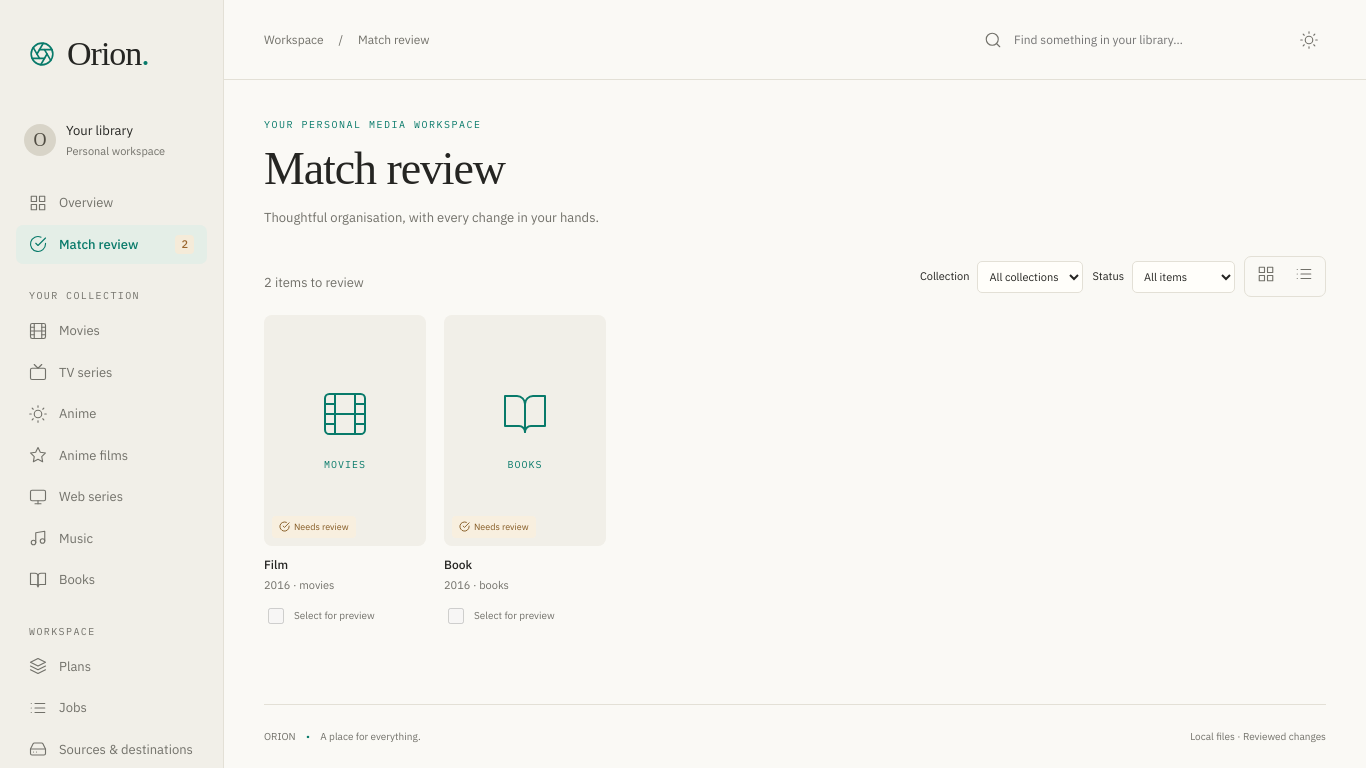
Scenario: review filters by collection without dropping other categories from its counts
Expected: the button "movies Needs review Film 2016 · movies" is shown, [264,315,426,593]
Select "Books" in the dropdown named "Filter collection" at (1030, 277), box [977,261,1083,293]
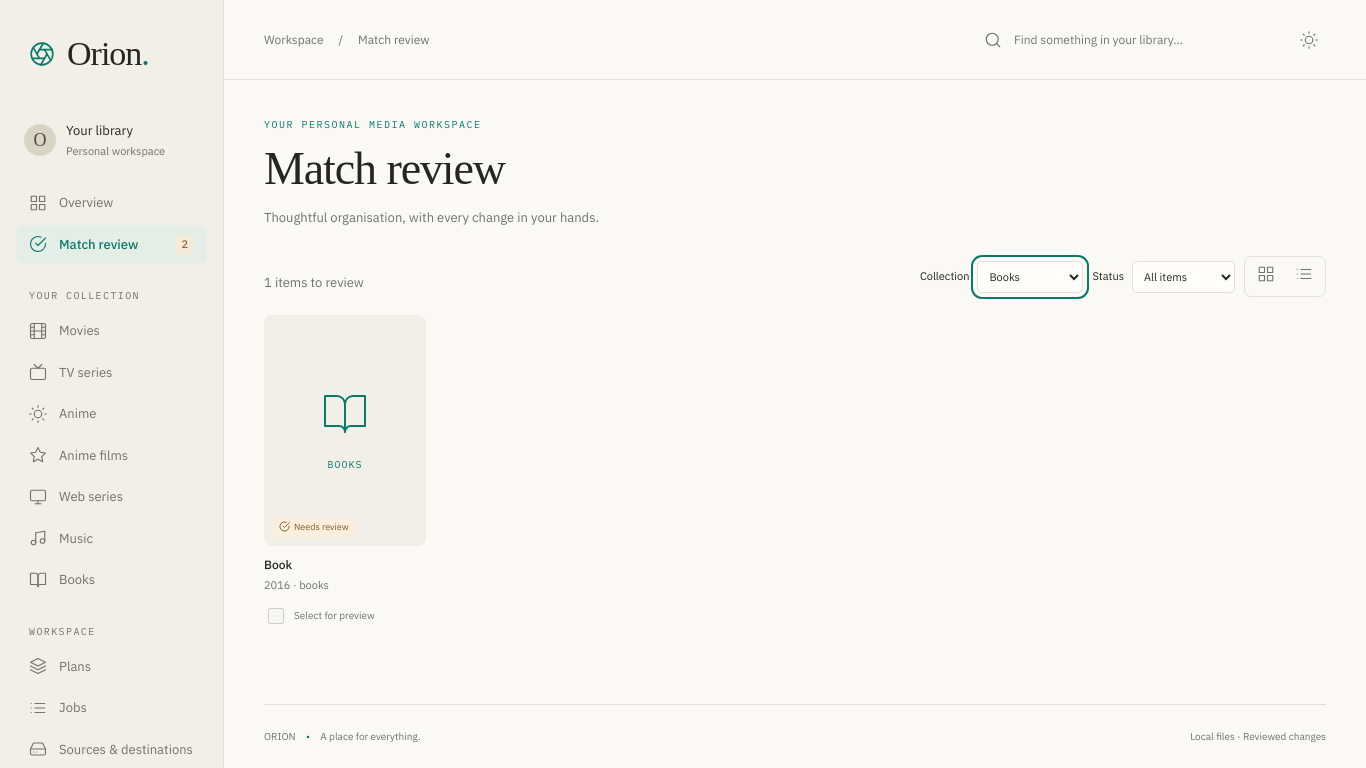
Expected: the button "books Needs review Book 2016 · books" is shown, [264,315,426,593]
Now the button "review Film" is gone
